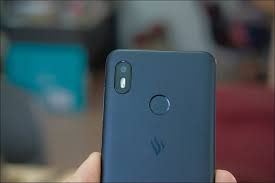vsmart: (97, 46, 220, 183)
